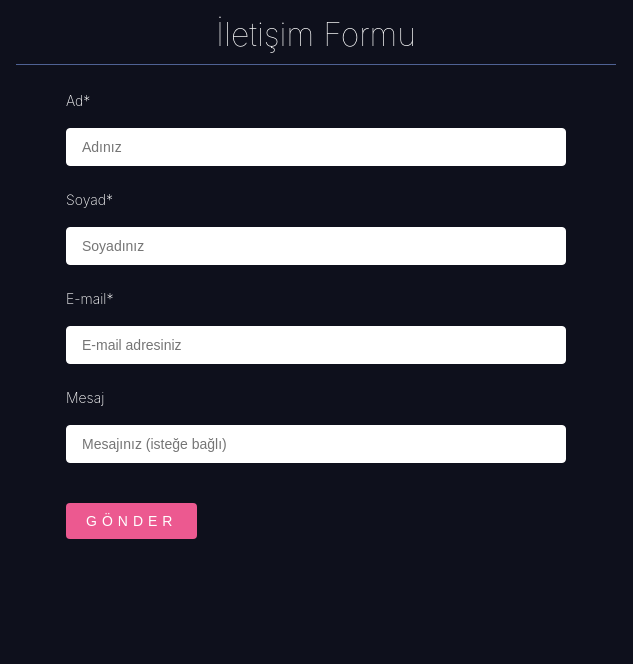
Test: [4] kullanıcı inputları doldurmadığında ÜÇ hata mesajı render ediliyor.
Click the button "Gönder".
click(132, 521)  # box [66, 503, 198, 539]
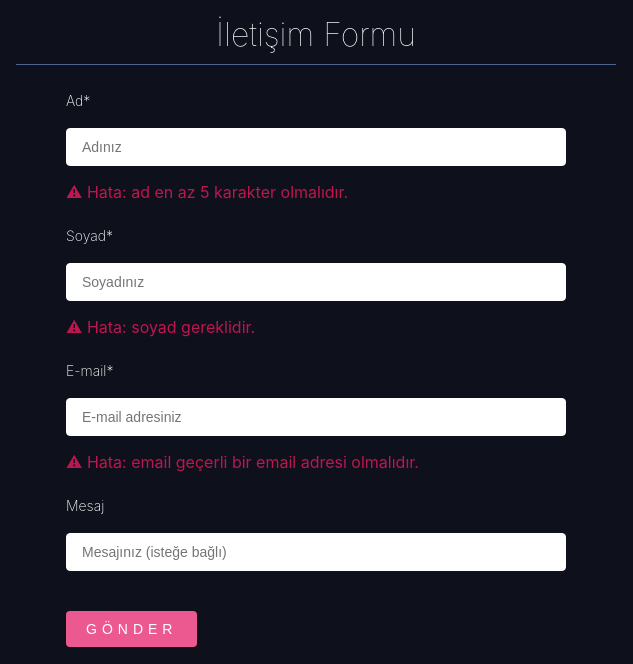
Now the number of elements with test id "error" is 3, box [87, 182, 348, 202]; [87, 317, 255, 337]; [87, 452, 419, 472]
